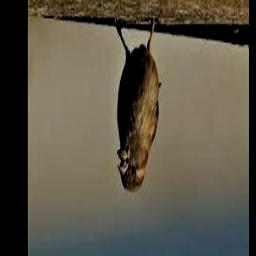Sparrow: (114, 20, 161, 194)
